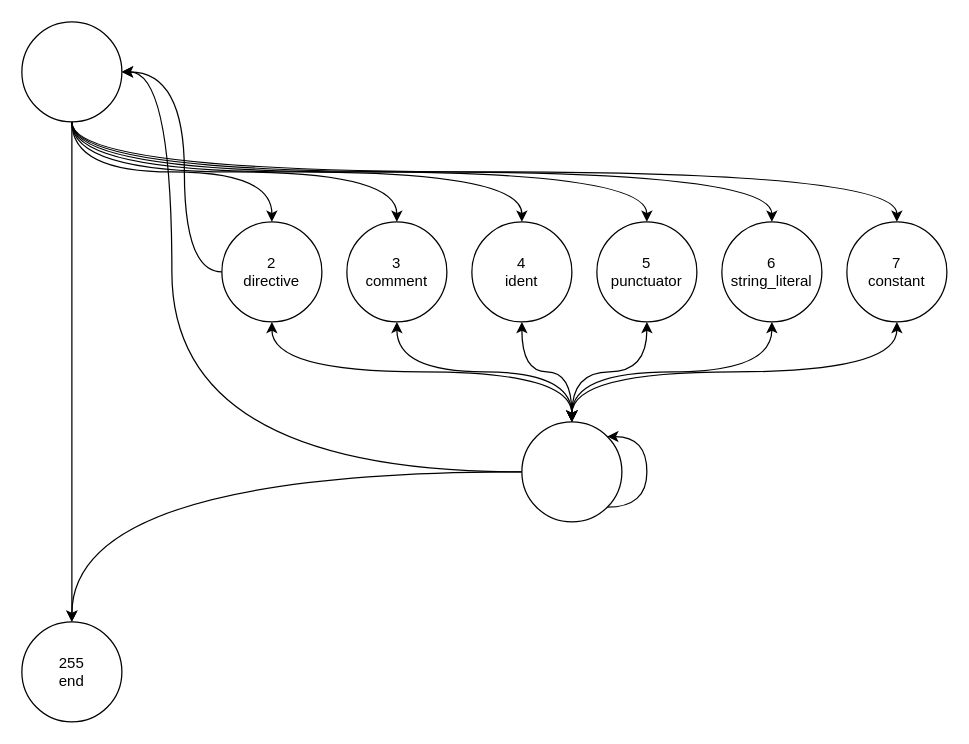
This 969x744 diagram has some shape labels left out. Here are the shapes that lost their labels. From the top down, the centre of each, then its label:
At point (71, 71): "0 line_start".
At point (571, 471): "1 line_body".
